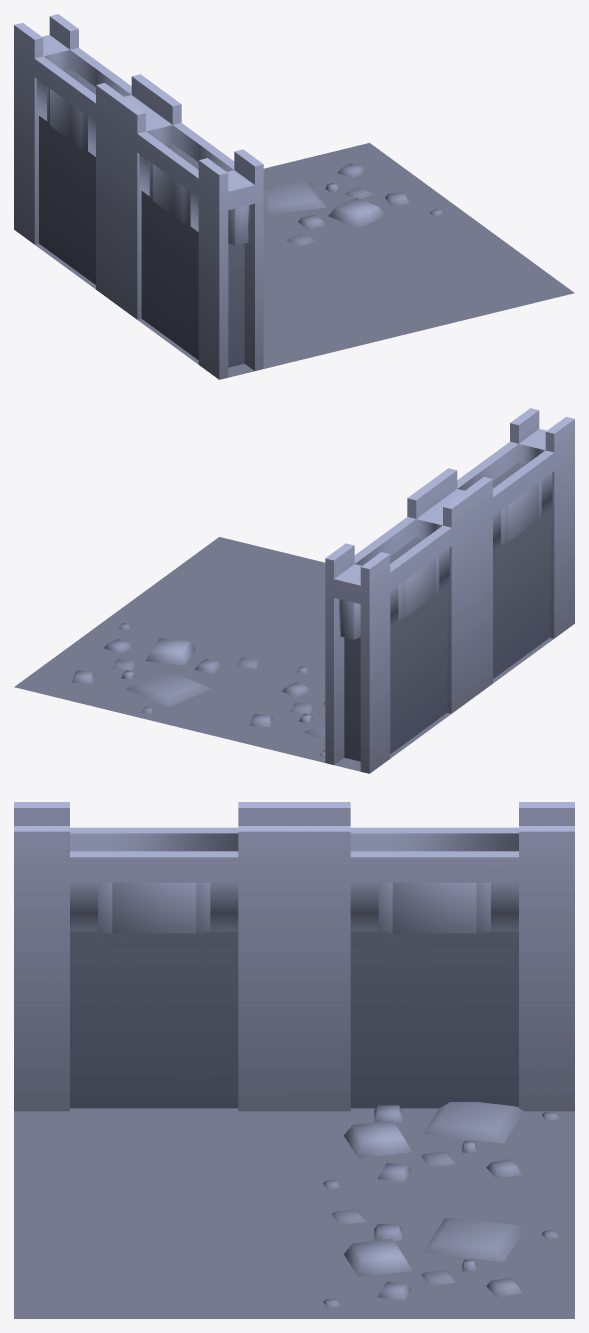
Rendered from Tile_8.glb.
3 renders of one model, top to bottom at view 1: azimuth 30°, elevation 25°; view 2: azimuth 150°, elevation 25°; view 3: azimuth 270°, elevation 25°, orthographic. The views are drawn at different scales.
Parts seen in each view (by area): view 1: tile_8; view 2: tile_8; view 3: tile_8.
Part boxes in pixels (bbox=[...]): tile_8: bbox=[14, 14, 574, 379]; tile_8: bbox=[14, 408, 574, 773]; tile_8: bbox=[14, 802, 574, 1318].
Size of the model in its own units: 2 by 1.1 by 2.
Materials: 6 (6 with a texture image).
